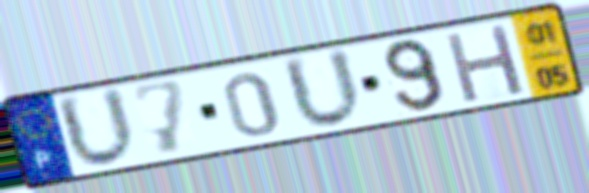0: (219, 69, 284, 139)
7: (130, 76, 189, 160)
9: (382, 35, 448, 118)
H: (441, 21, 529, 107)
U: (51, 83, 141, 171), (277, 45, 367, 132)
